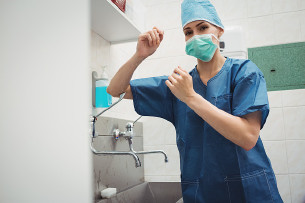face_mask: (183, 17, 218, 62)
